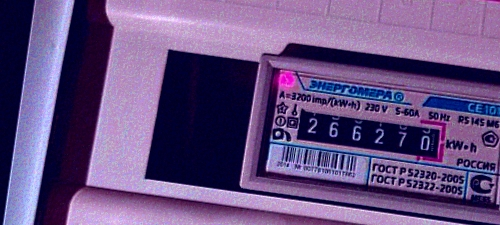0: (418, 133, 432, 152)
2: (304, 115, 319, 135), (372, 126, 386, 145)
6: (349, 123, 364, 143), (327, 119, 341, 139)
7: (395, 129, 408, 148)
screen: (285, 98, 453, 169)
